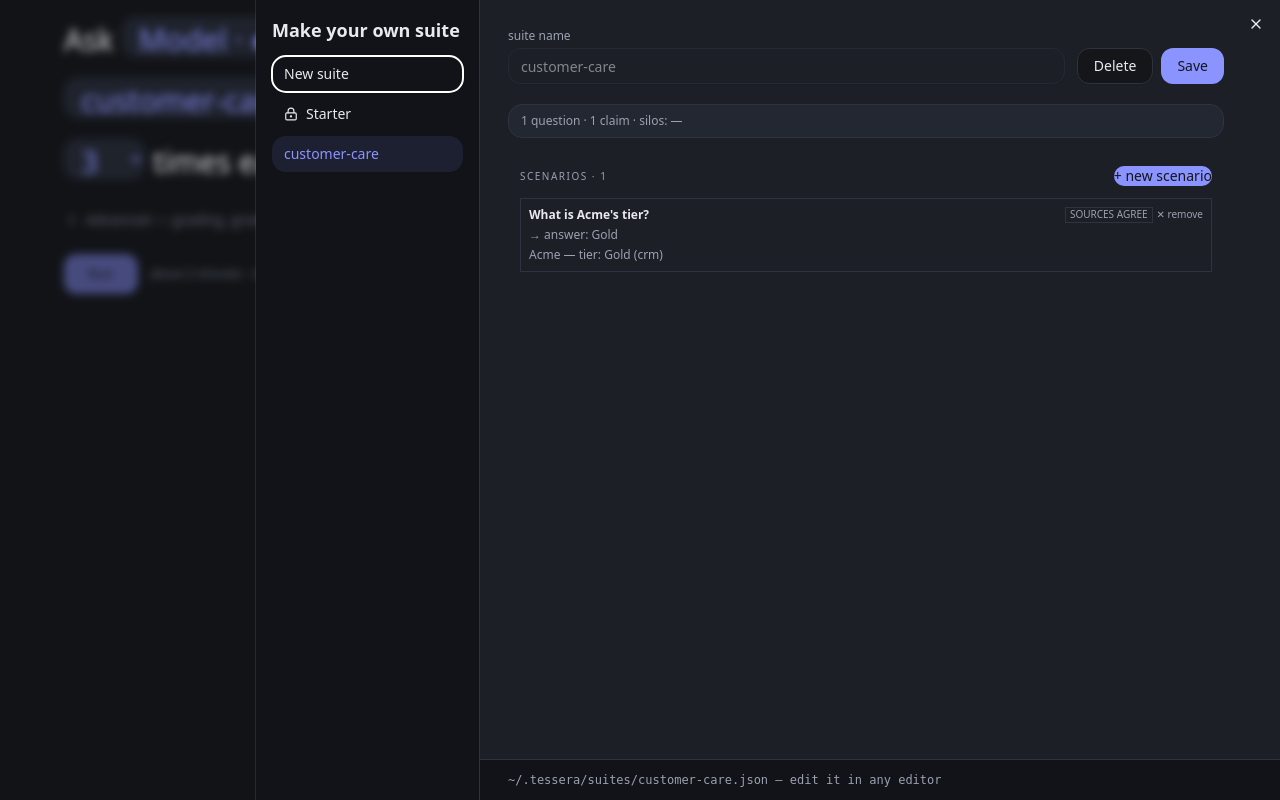
Test: SuiteSheet › falls back to the default suite in Run when the selected suite is deleted
Click the button "Delete".
click(1115, 66)  # box [1077, 48, 1154, 84]
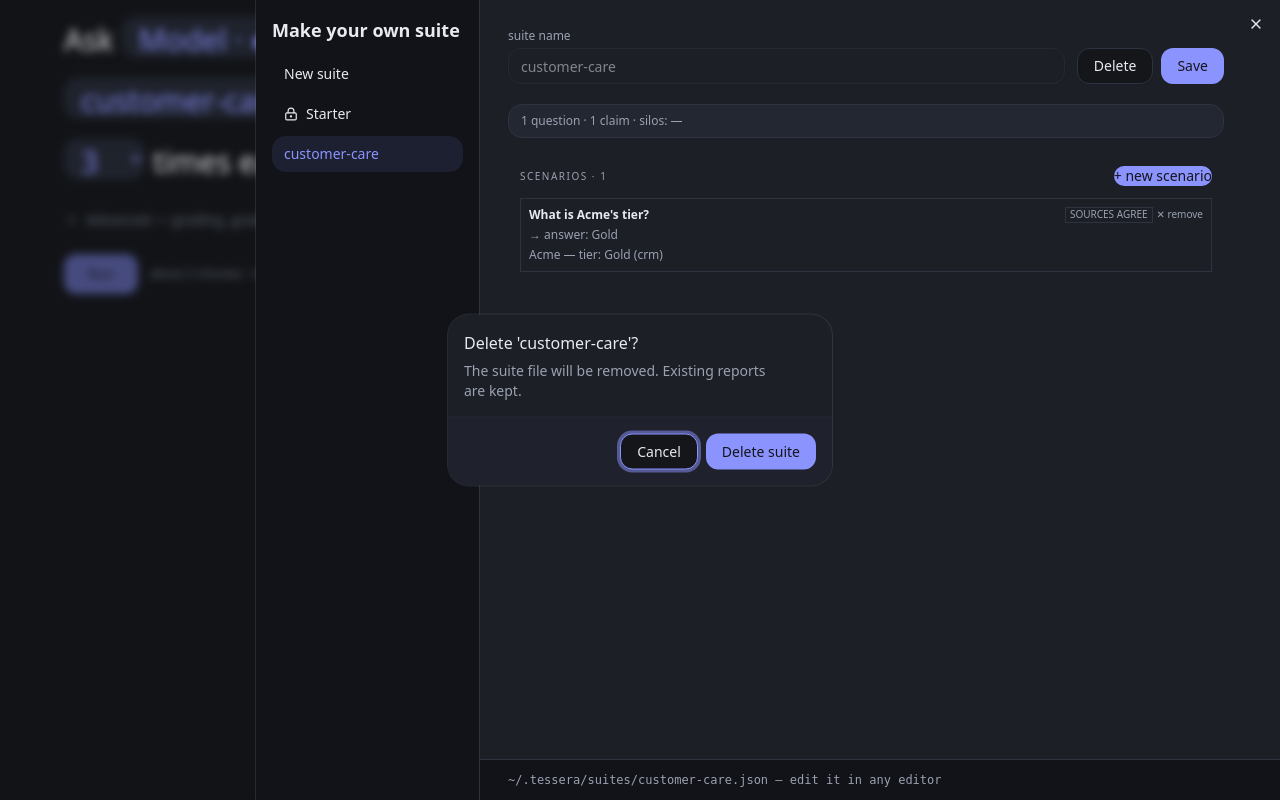
Click the button "Delete suite".
click(761, 452)  # box [706, 434, 816, 470]
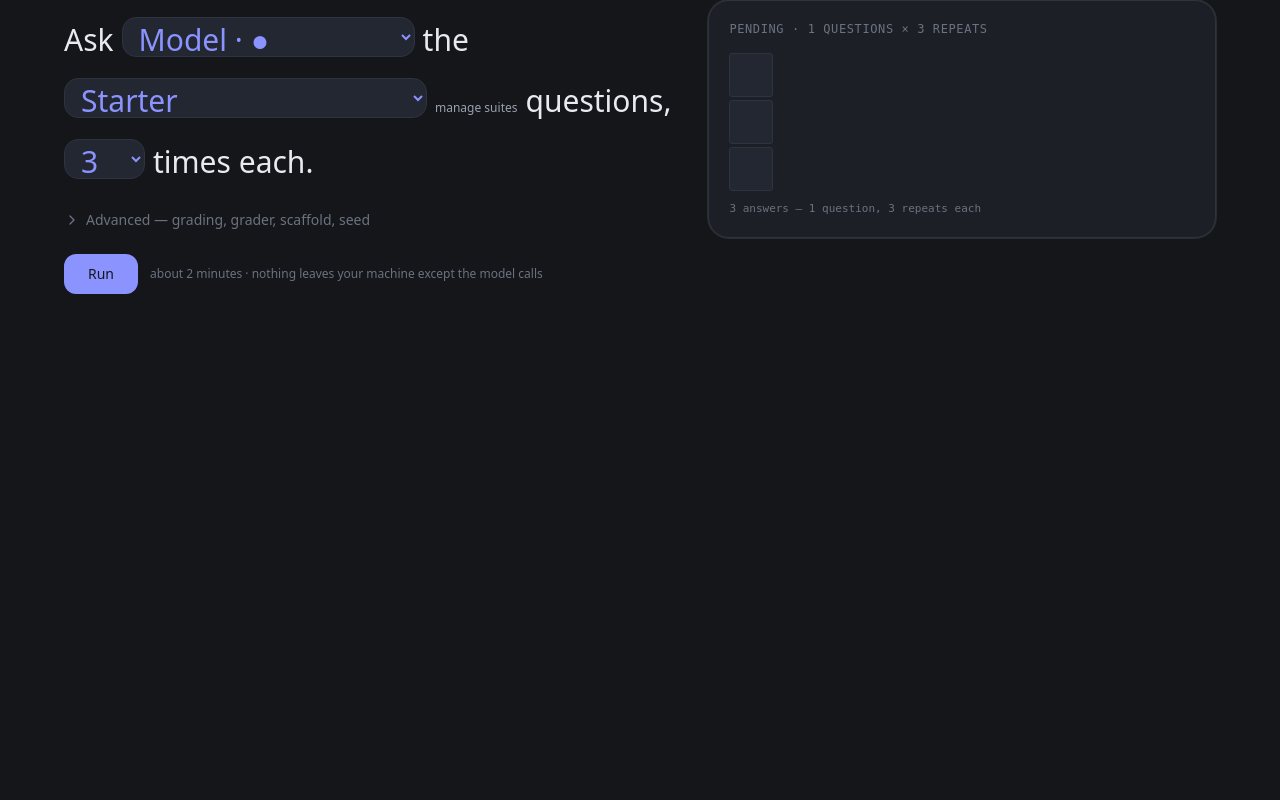
Expected: the dropdown named "suite" shows "Starter", [64, 78, 427, 118]
